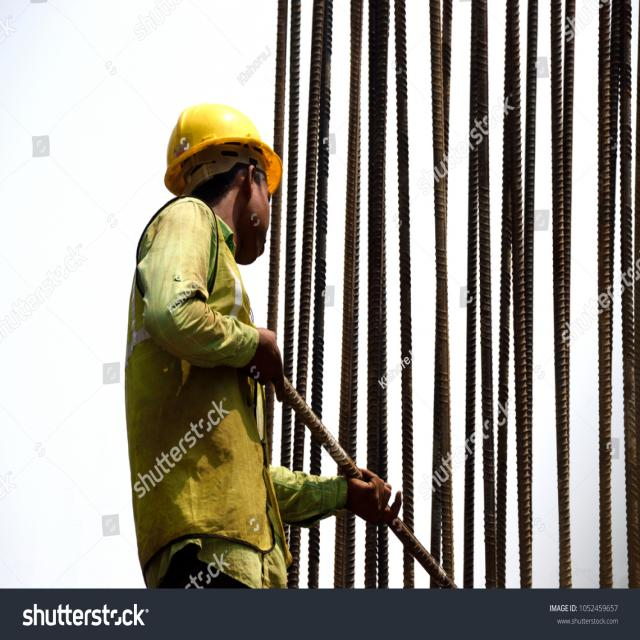Reflective-Jacket: (121, 207, 292, 580)
Safety-Helmet: (158, 95, 286, 198)
